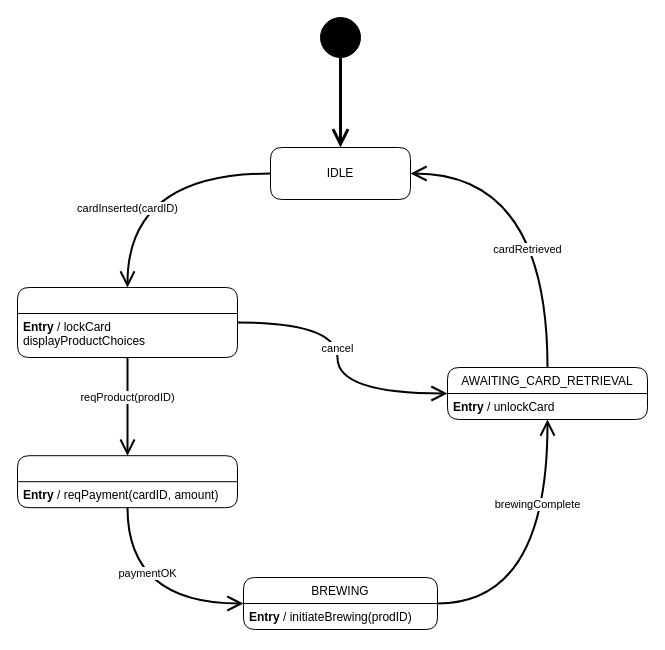
The diagram is 665 pixels wide and 650 high, and some of its shapes have lost their labels. The shapes that lost their labels are listed below. From the top down, each one's box as (x1, y1, x2, y2) in pixels, then its label:
(16, 286, 238, 358): AWAITING_CHOICE
(16, 455, 238, 508): AWAITING_PAYMENT_OK
